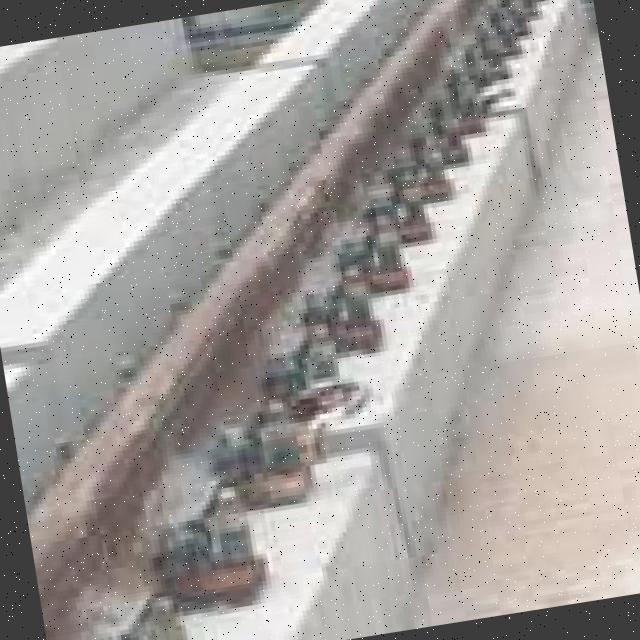curb: (1, 169, 232, 450), (273, 440, 489, 640), (358, 268, 520, 423), (191, 62, 314, 237), (444, 120, 551, 282), (498, 7, 605, 168), (291, 1, 459, 98)
